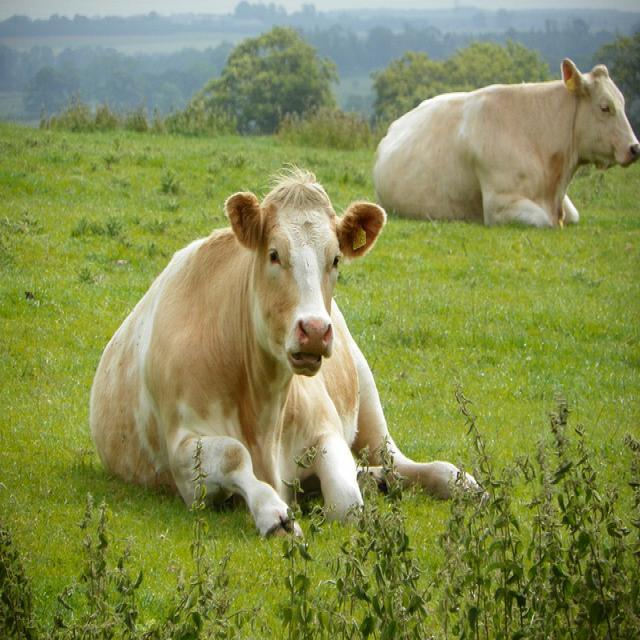cow: (85, 159, 480, 548), (372, 51, 639, 231)
